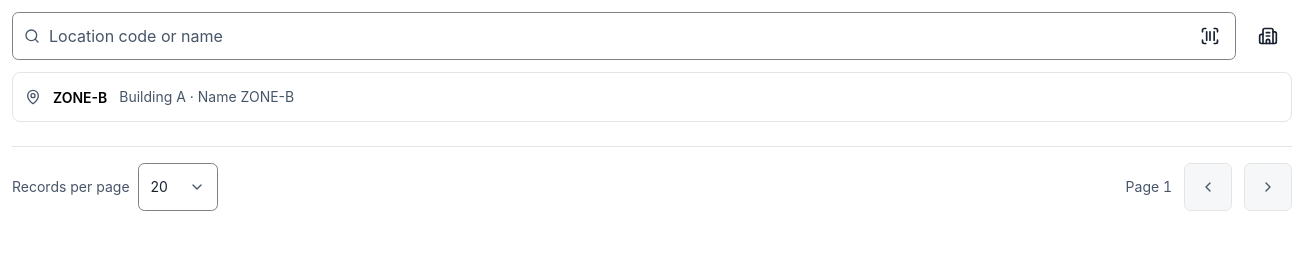
Test: reports rejected identities when a real mapped location is required
Click the button named "Scan code": (1210, 36) [1186,12,1234,60]
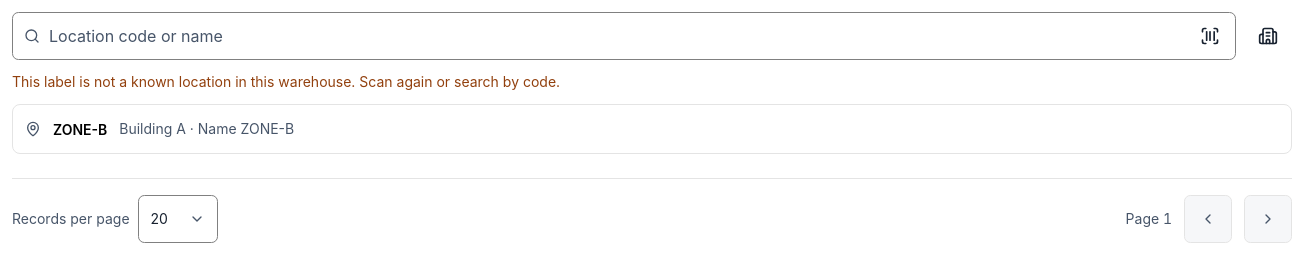
Expected: the text "not a known location" is shown, [12,73,560,90]
